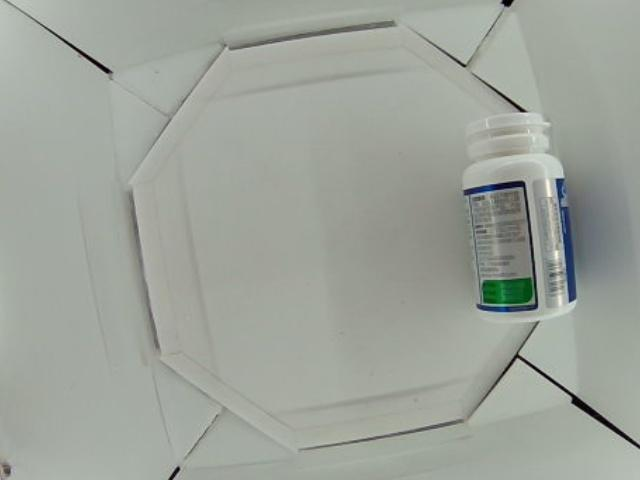Bottle: (465, 113, 582, 316)
